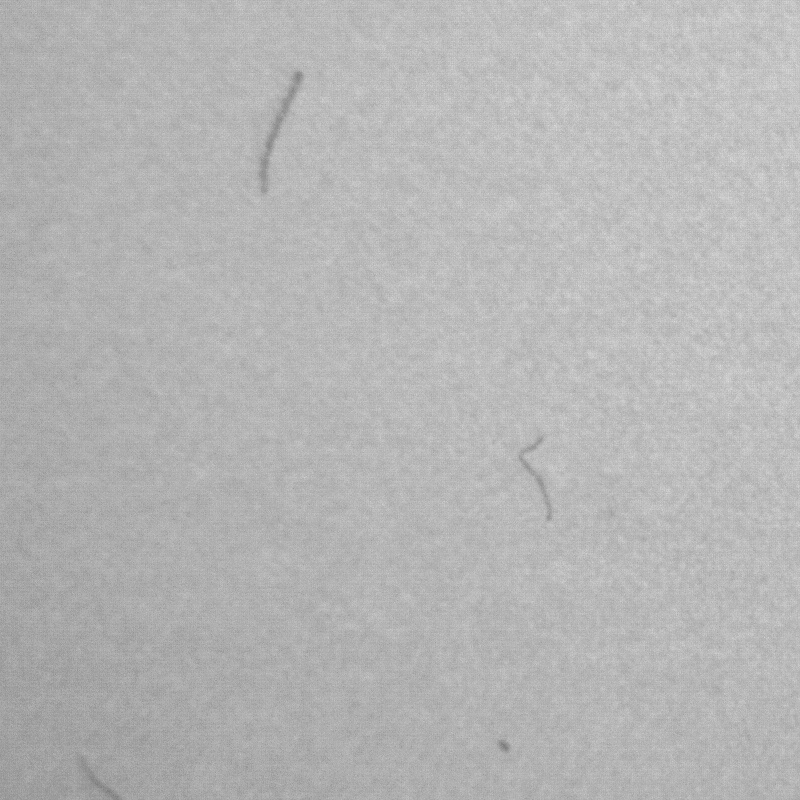defect: (255, 71, 305, 197), (500, 423, 558, 528), (80, 751, 126, 797), (496, 736, 515, 756)
